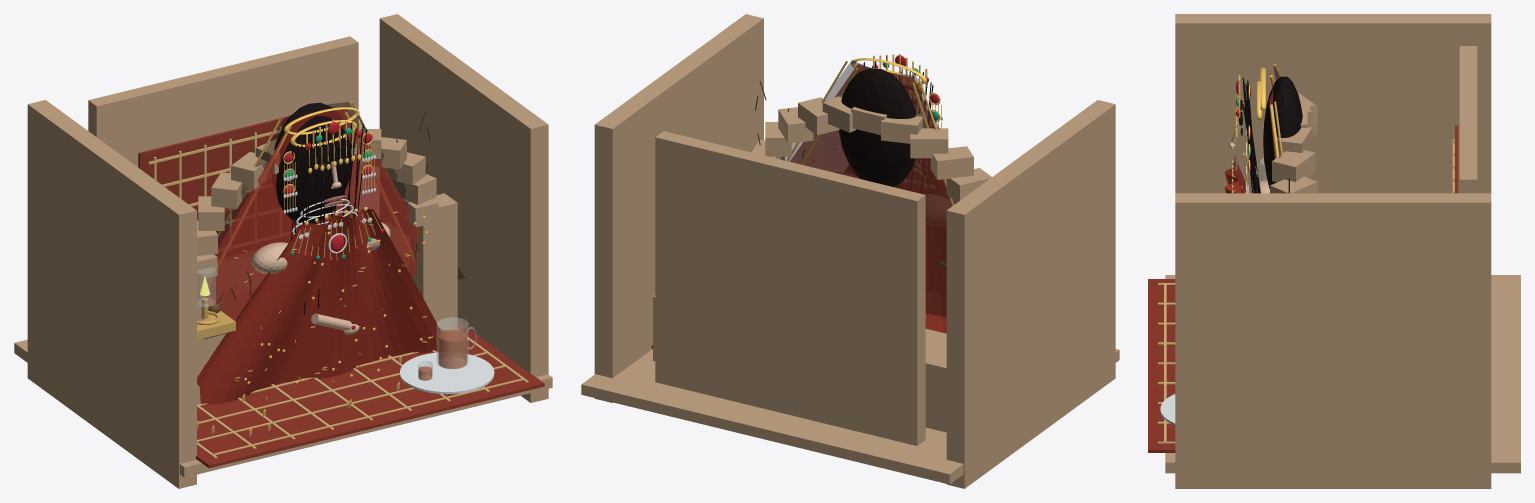
Rendered from folklore_kazakh_seated_woman_cloth_blockout.glb.
3 renders of one model, left to right at view 1: azimuth 30°, elevation 25°; view 2: azimuth 150°, elevation 25°; view 3: azimuth 270°, elevation 25°, orthographic. The views are drawn at different scales.
Visible parts, largest first — view 1: left_plaster_wall, right_plaster_wall, cloth_red_outer_robe_large_simulatable_mesh, back_plaster_wall_inside_niche, floor_afghan_carpet_base, cloth_deep_red_under_veil_simulatable_mesh, back_wall_dark_patterned_rug_base, black_hair_mass_behind_head, right_arch_pillar, round_metal_serving_tray, low_back_bench_plaster, stone_floor_base (+16 smaller); view 2: back_plaster_wall_inside_niche, left_plaster_wall, right_plaster_wall, stone_floor_base, cloth_black_transparent_back_veil_simulatable_mesh, black_hair_mass_behind_head, cloth_deep_red_under_veil_simulatable_mesh, cloth_red_outer_robe_large_simulatable_mesh, low_back_bench_plaster, rough_arch_block_09, rough_arch_block_08, rough_arch_block_07 (+7 smaller); view 3: right_plaster_wall, left_plaster_wall, stone_floor_base, floor_afghan_carpet_base, back_plaster_wall_inside_niche, black_hair_mass_behind_head, rough_arch_block_04, rough_arch_block_05, rough_arch_block_03, cloth_red_outer_robe_large_simulatable_mesh, floor_carpet_gold_stripe_y_0.
Boxes of the visible parts, x1,y1,x2,y2 form: left_plaster_wall: (27, 100, 196, 488); right_plaster_wall: (379, 14, 548, 402); cloth_red_outer_robe_large_simulatable_mesh: (197, 209, 440, 405); back_plaster_wall_inside_niche: (88, 36, 358, 262); floor_afghan_carpet_base: (196, 321, 544, 468); cloth_deep_red_under_veil_simulatable_mesh: (204, 109, 419, 319); back_wall_dark_patterned_rug_base: (138, 116, 319, 258); black_hair_mass_behind_head: (272, 102, 351, 223); right_arch_pillar: (411, 193, 457, 331); round_metal_serving_tray: (400, 352, 494, 394); low_back_bench_plaster: (204, 223, 409, 364); stone_floor_base: (14, 339, 552, 477); back_plaster_wall_inside_niche: (655, 131, 925, 445); left_plaster_wall: (946, 100, 1115, 488); right_plaster_wall: (594, 14, 763, 402); stone_floor_base: (581, 349, 1119, 484); cloth_black_transparent_back_veil_simulatable_mesh: (781, 60, 956, 317); black_hair_mass_behind_head: (839, 68, 916, 186); cloth_deep_red_under_veil_simulatable_mesh: (790, 64, 956, 294); cloth_red_outer_robe_large_simulatable_mesh: (845, 159, 948, 333); low_back_bench_plaster: (653, 295, 946, 432); rough_arch_block_09: (930, 146, 973, 179); rough_arch_block_08: (910, 128, 948, 158); rough_arch_block_07: (881, 114, 924, 143); right_plaster_wall: (1175, 193, 1491, 488); left_plaster_wall: (1175, 14, 1491, 193); stone_floor_base: (1165, 275, 1520, 473); floor_afghan_carpet_base: (1148, 279, 1175, 452); back_plaster_wall_inside_niche: (1459, 46, 1477, 193); black_hair_mass_behind_head: (1263, 76, 1302, 188); rough_arch_block_04: (1272, 150, 1315, 182); rough_arch_block_05: (1275, 127, 1312, 157); rough_arch_block_03: (1270, 176, 1317, 193); cloth_red_outer_robe_large_simulatable_mesh: (1224, 162, 1245, 193); floor_carpet_gold_stripe_y_0: (1164, 283, 1166, 442).
Size of what is drawn, in the model's own units: 4.52 by 3.53 by 3.77.
